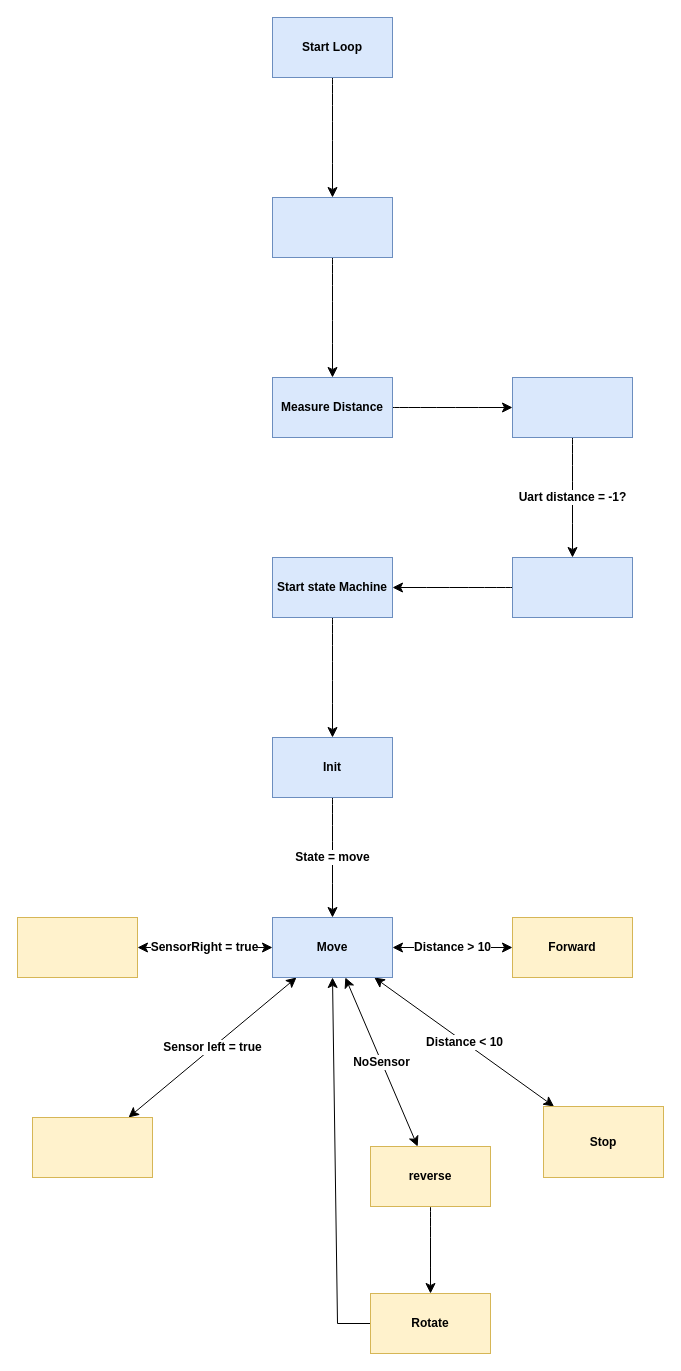
Some shapes in this 681 by 1371 pixel diagram are drawn without their labels. Each missing label, with the centre of its shape:
"Current Time" belongs at pixel 332 227.
"Disatance != default" belongs at pixel 572 407.
"left" belongs at pixel 77 947.
"right" belongs at pixel 92 1147.
"Set filtered distance" belongs at pixel 572 587.
